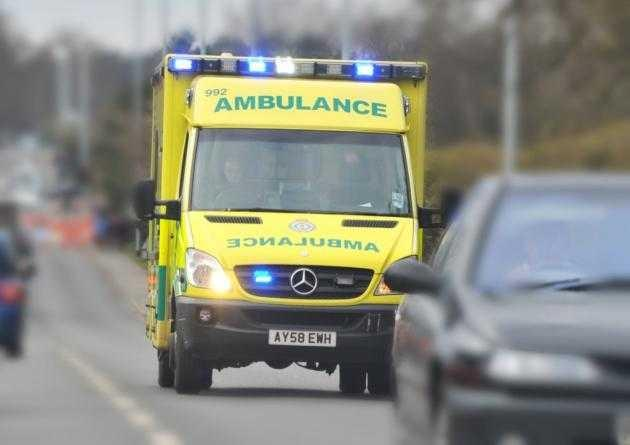car: (131, 51, 437, 396)
